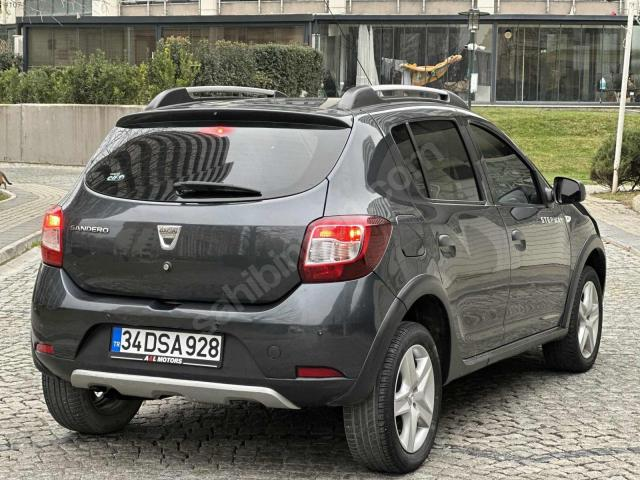plaka: (110, 326, 224, 367)
